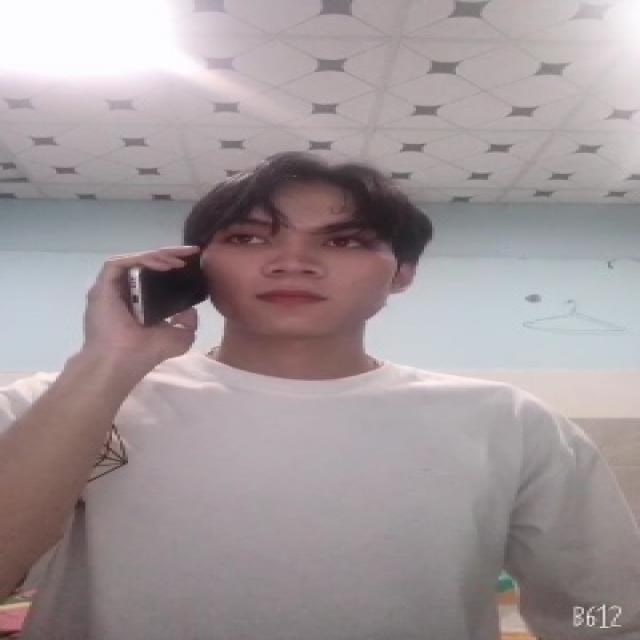Phone: (117, 243, 220, 326)
